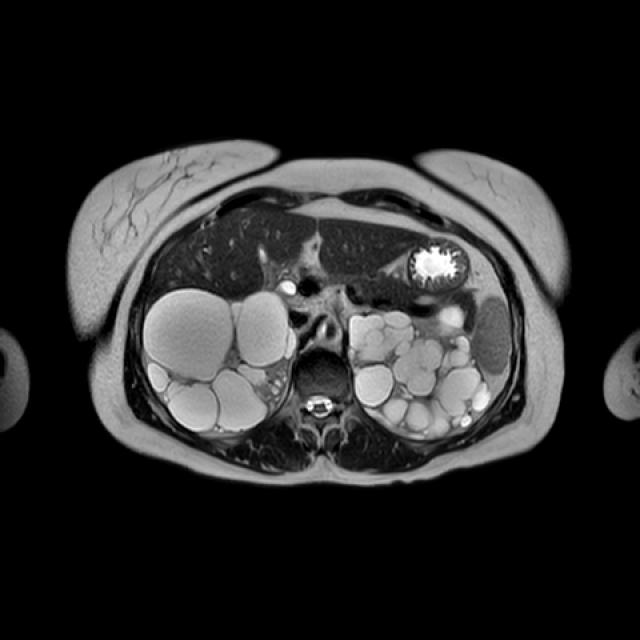sag: (141, 288, 298, 434)
sol: (350, 310, 491, 442)
